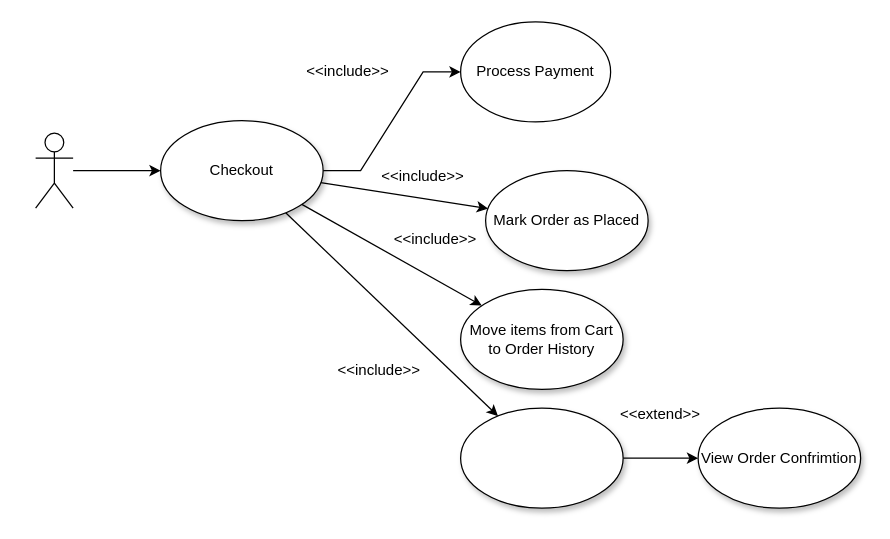
The diagram is 890 pixels wide and 539 high, and some of its shapes have lost their labels. The shapes that lost their labels are listed below. From the top down, each one's centre as x and y in pixels, then its label:
At (x=53, y=170): "Customer".
At (x=542, y=459): "Generate Order Confirmation".
